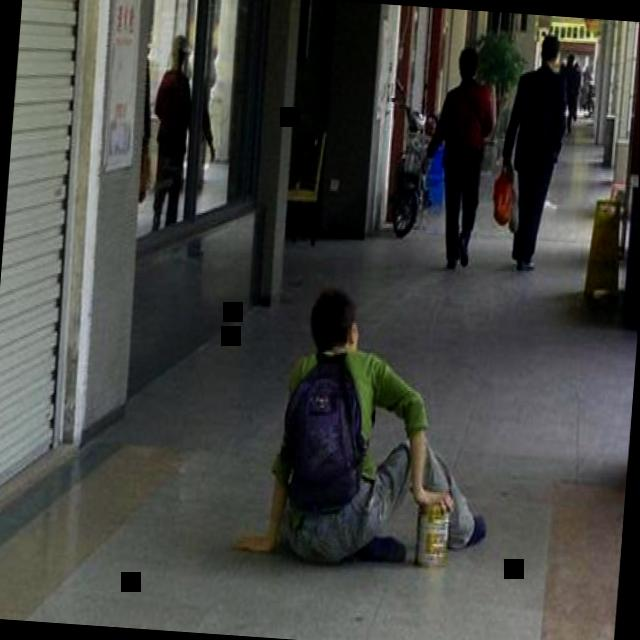Fall-Detected: (240, 264, 510, 582)
